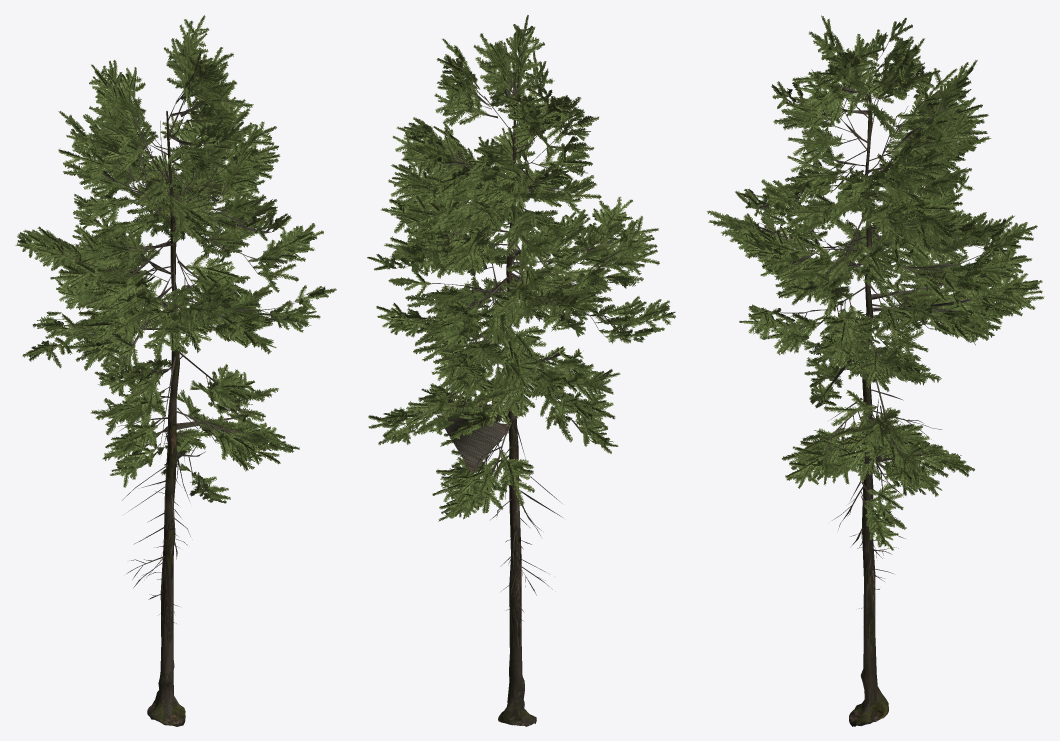
The model's file is Forest_Fir.glb.
3 views of the same model, side by side, from view 1: azimuth 30°, elevation 25°; view 2: azimuth 150°, elevation 25°; view 3: azimuth 270°, elevation 25° (orthographic). The views are drawn at different scales.
Visible parts, largest first — view 1: Fir_LOD0; view 2: Fir_LOD0; view 3: Fir_LOD0.
Boxes of the visible parts, left/top/right/bottom form: Fir_LOD0: left=15, top=15, right=336, bottom=726; Fir_LOD0: left=367, top=15, right=675, bottom=726; Fir_LOD0: left=707, top=15, right=1044, bottom=726.
Size of what is drawn, in the model's own units: 5.2 by 13 by 5.62.
Materials: 3 (3 with a texture image).
